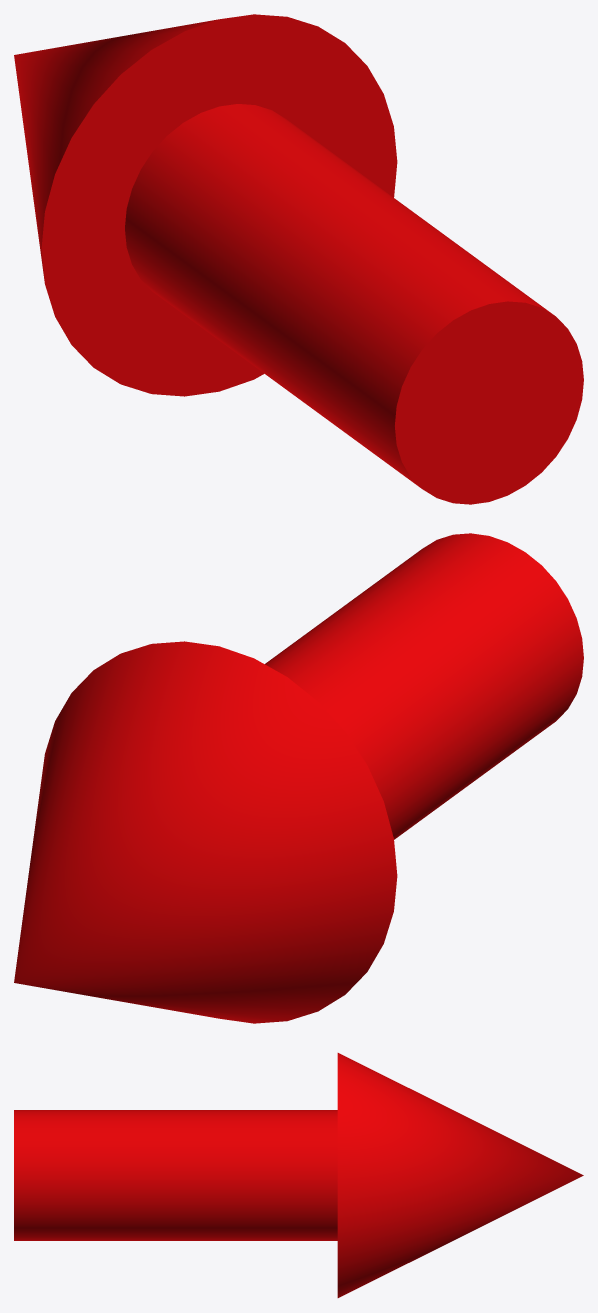
The model's file is ObjectiveArrow.fbx.
3 views of the same model, one above another, from view 1: azimuth 30°, elevation 25°; view 2: azimuth 150°, elevation 25°; view 3: azimuth 270°, elevation 25° (orthographic). The views are drawn at different scales.
Visible parts, largest first — view 1: Cone; view 2: Cone; view 3: Cone.
Boxes of the visible parts, x1,y1,x2,y2 form: Cone: [14, 14, 583, 504]; Cone: [14, 533, 583, 1023]; Cone: [14, 1053, 583, 1297].
Size of the model in its own units: 80 by 80 by 185.
